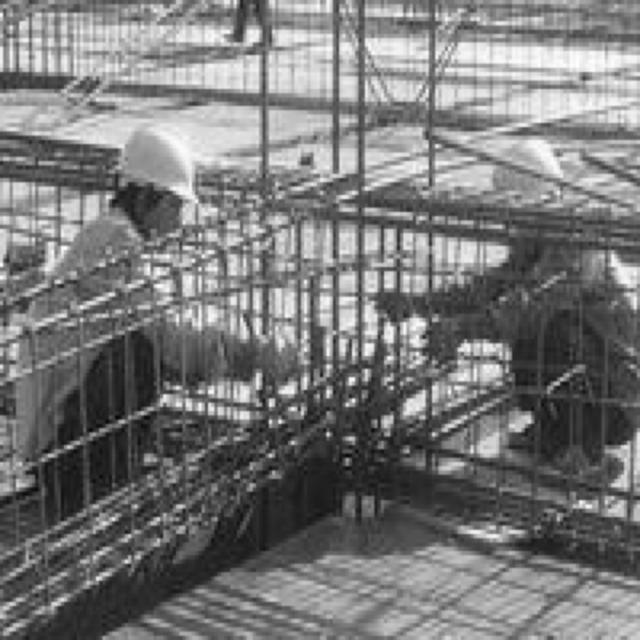head: (112, 115, 205, 238), (483, 131, 570, 246)
